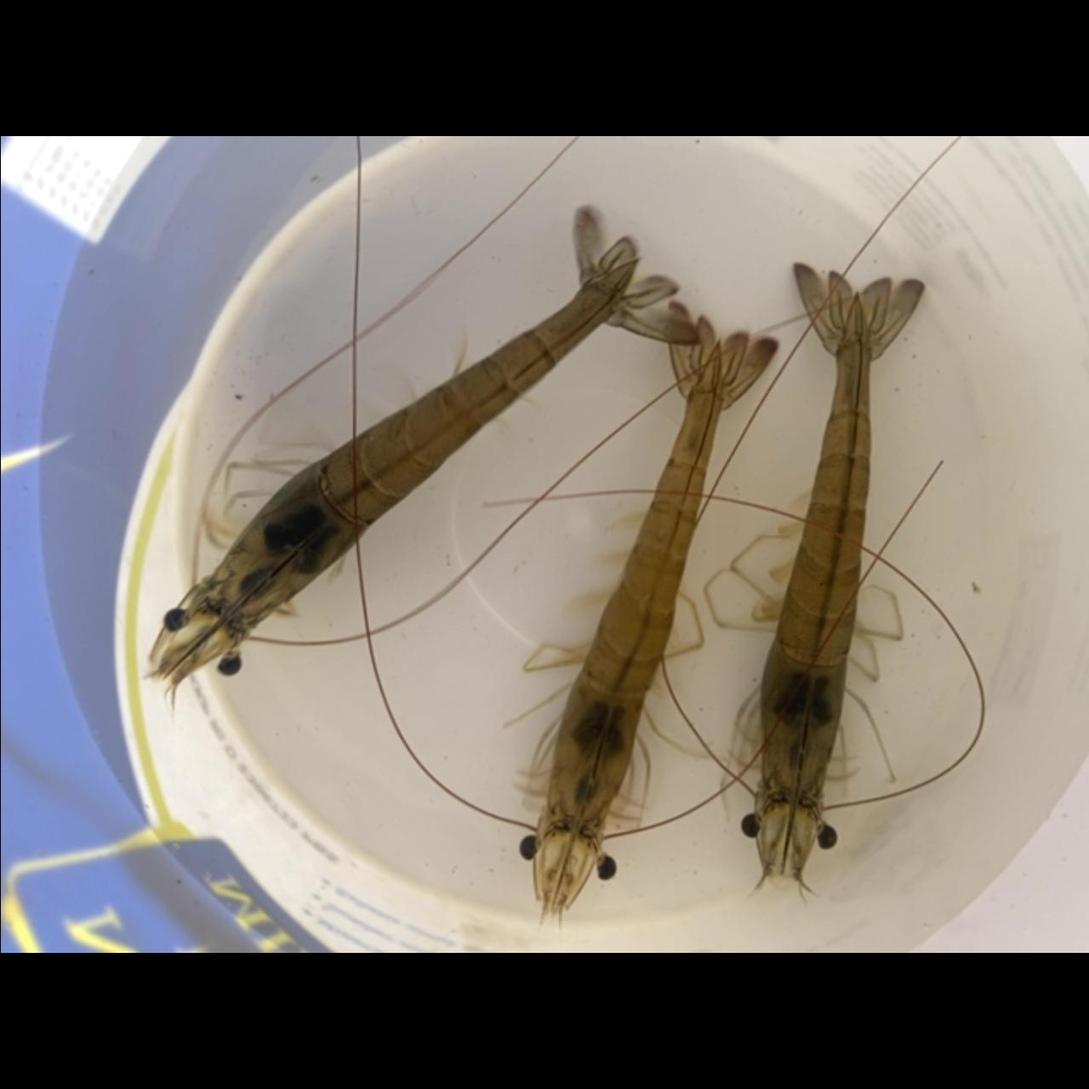top_shrimp: (210, 255, 639, 634), (542, 336, 724, 835), (757, 288, 871, 806)
